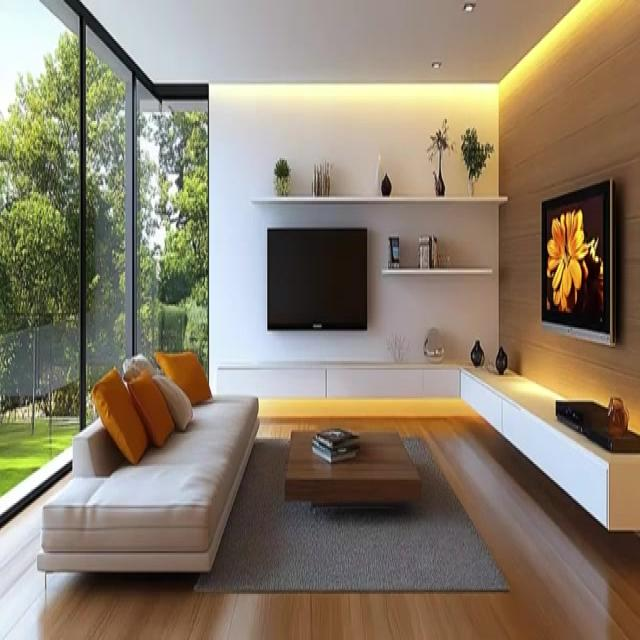obstacle: (36, 348, 259, 588), (284, 426, 421, 506)
